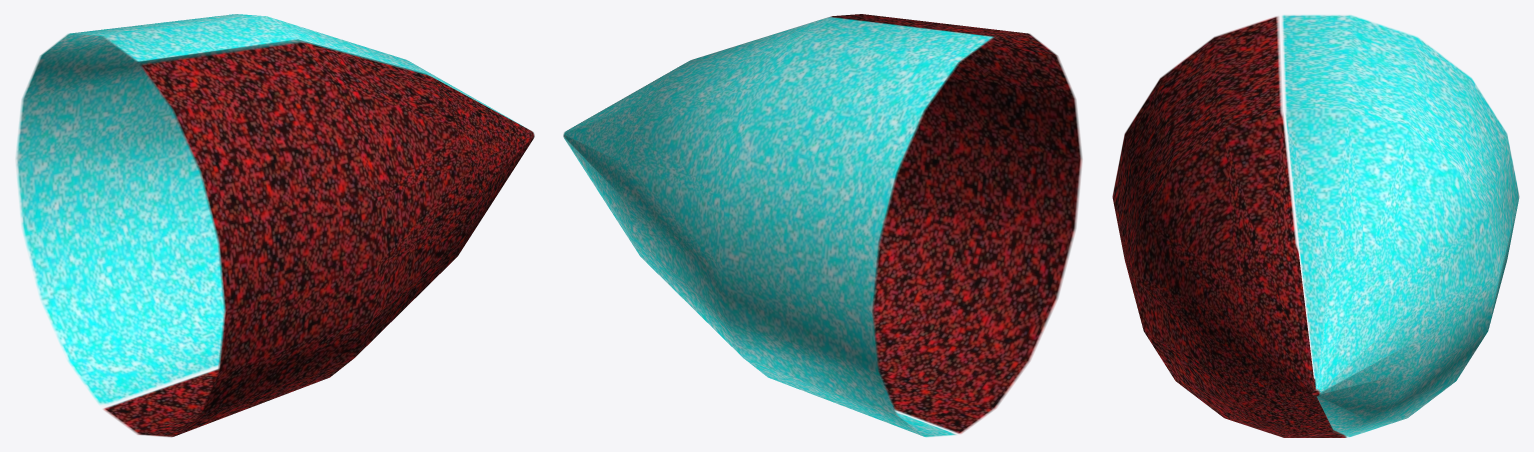
3 views of the same model, side by side, from view 1: azimuth 30°, elevation 25°; view 2: azimuth 150°, elevation 25°; view 3: azimuth 270°, elevation 25° (orthographic). The views are drawn at different scales.
Visible parts, largest first — view 1: SM_VFX_Beast_Druid_NatureBolt_Shockwave_LOD0; view 2: SM_VFX_Beast_Druid_NatureBolt_Shockwave_LOD0; view 3: SM_VFX_Beast_Druid_NatureBolt_Shockwave_LOD0.
Part boxes in pixels (x1=…): SM_VFX_Beast_Druid_NatureBolt_Shockwave_LOD0: x1=15, y1=14, x2=534, y2=437; SM_VFX_Beast_Druid_NatureBolt_Shockwave_LOD0: x1=563, y1=14, x2=1082, y2=437; SM_VFX_Beast_Druid_NatureBolt_Shockwave_LOD0: x1=1112, y1=15, x2=1519, y2=437.
Size of the model in its own units: 1.74 by 1.49 by 1.51.
1 material, 1 textured.
